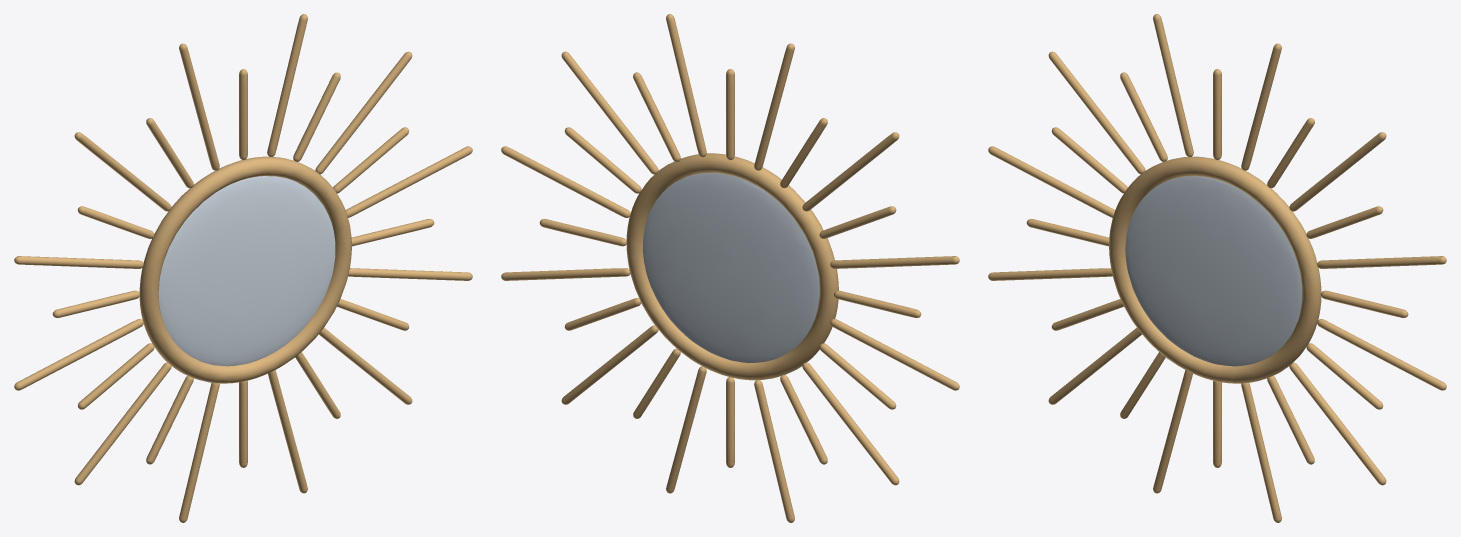
Rendered from deco_espejo_sol.glb.
3 renders of one model, left to right at view 1: azimuth 30°, elevation 25°; view 2: azimuth 150°, elevation 25°; view 3: azimuth 330°, elevation 25°, orthographic.
Visible parts, largest first — view 1: espejo sol.001, marco sol.001, rayo sol 15.001, rayo sol 3.001, rayo sol 5.001, rayo sol 13.001, rayo sol 17.001, rayo sol 1.001, rayo sol 7.001, rayo sol 11.001, rayo sol 19.001, rayo sol 23.001 (+14 smaller); view 2: espejo sol.001, marco sol.001, rayo sol 15.001, rayo sol 3.001, rayo sol 5.001, rayo sol 17.001, rayo sol 1.001, rayo sol 13.001, rayo sol 7.001, rayo sol 19.001, rayo sol 23.001, rayo sol 11.001 (+14 smaller); view 3: espejo sol.001, marco sol.001, rayo sol 9.001, rayo sol 21.001, rayo sol 7.001, rayo sol 23.001, rayo sol 19.001, rayo sol 11.001, rayo sol 5.001, rayo sol 1.001, rayo sol 17.001, rayo sol 13.001 (+14 smaller).
Boxes of the visible parts, x1=… form: espejo sol.001: x1=158, y1=176, x2=335, y2=366; marco sol.001: x1=139, y1=156, x2=351, y2=383; rayo sol 15.001: x1=74, y1=362, x2=171, y2=485; rayo sol 3.001: x1=315, y1=51, x2=412, y2=174; rayo sol 5.001: x1=267, y1=14, x2=307, y2=156; rayo sol 13.001: x1=14, y1=319, x2=143, y2=390; rayo sol 17.001: x1=179, y1=383, x2=219, y2=522; rayo sol 1.001: x1=345, y1=146, x2=472, y2=217; rayo sol 7.001: x1=179, y1=43, x2=219, y2=170; rayo sol 11.001: x1=14, y1=256, x2=143, y2=268; rayo sol 19.001: x1=268, y1=370, x2=307, y2=493; rayo sol 23.001: x1=348, y1=268, x2=472, y2=280; espejo sol.001: x1=643, y1=172, x2=819, y2=362; marco sol.001: x1=626, y1=153, x2=838, y2=380; rayo sol 15.001: x1=802, y1=362, x2=899, y2=485; rayo sol 3.001: x1=561, y1=51, x2=658, y2=174; rayo sol 5.001: x1=666, y1=14, x2=706, y2=157; rayo sol 17.001: x1=754, y1=380, x2=794, y2=522; rayo sol 1.001: x1=501, y1=146, x2=630, y2=217; rayo sol 13.001: x1=830, y1=319, x2=959, y2=390; rayo sol 7.001: x1=754, y1=43, x2=794, y2=170; rayo sol 19.001: x1=666, y1=366, x2=706, y2=493; rayo sol 23.001: x1=501, y1=268, x2=630, y2=280; rayo sol 11.001: x1=830, y1=256, x2=959, y2=268; espejo sol.001: x1=1125, y1=176, x2=1301, y2=366; marco sol.001: x1=1109, y1=156, x2=1321, y2=383; rayo sol 9.001: x1=1048, y1=51, x2=1145, y2=174; rayo sol 21.001: x1=1289, y1=362, x2=1386, y2=485; rayo sol 7.001: x1=1153, y1=14, x2=1193, y2=156; rayo sol 23.001: x1=1317, y1=319, x2=1446, y2=390; rayo sol 19.001: x1=1241, y1=383, x2=1281, y2=522; rayo sol 11.001: x1=988, y1=146, x2=1115, y2=217; rayo sol 5.001: x1=1241, y1=43, x2=1281, y2=170; rayo sol 1.001: x1=1317, y1=256, x2=1446, y2=268; rayo sol 17.001: x1=1153, y1=370, x2=1192, y2=493; rayo sol 13.001: x1=988, y1=268, x2=1112, y2=280.
Bounding box in the file's own units: 0.5912 × 0.5912 × 0.0217.
